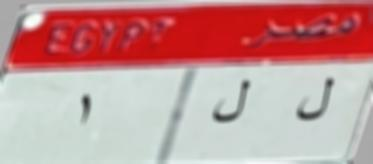1: (71, 82, 104, 131)
laam: (292, 74, 344, 130), (209, 76, 261, 128)
